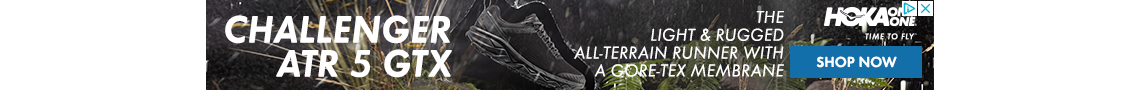fake_button: (779, 37, 928, 86)
